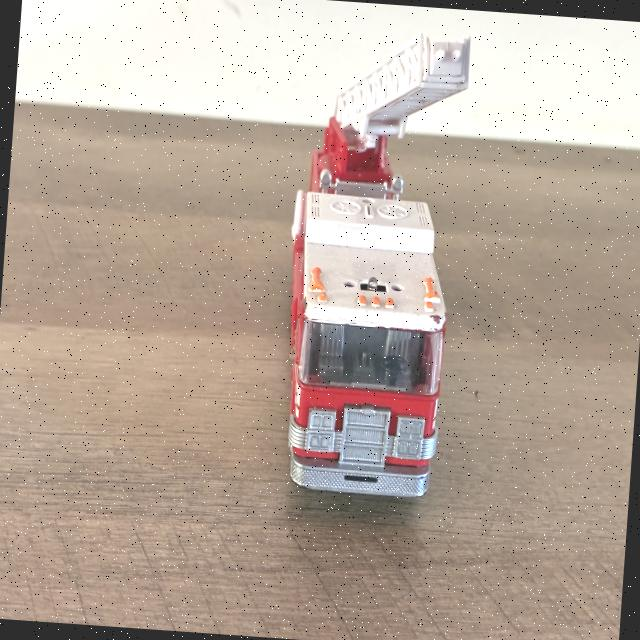fire-truck: (287, 33, 469, 504)
